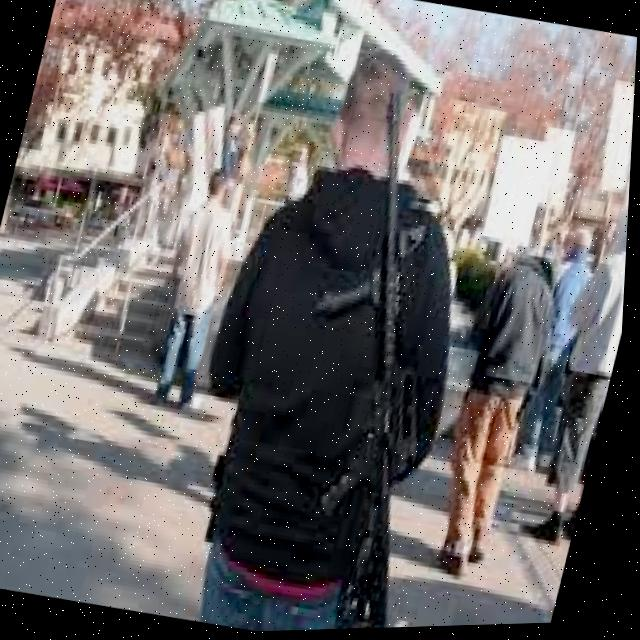firearm: (242, 86, 514, 634)
